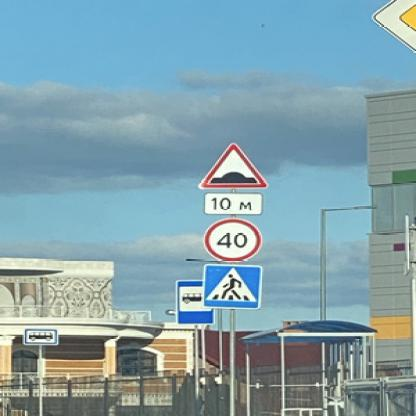crosswalk: (200, 263, 260, 309)
speedlimit: (202, 218, 260, 260)
